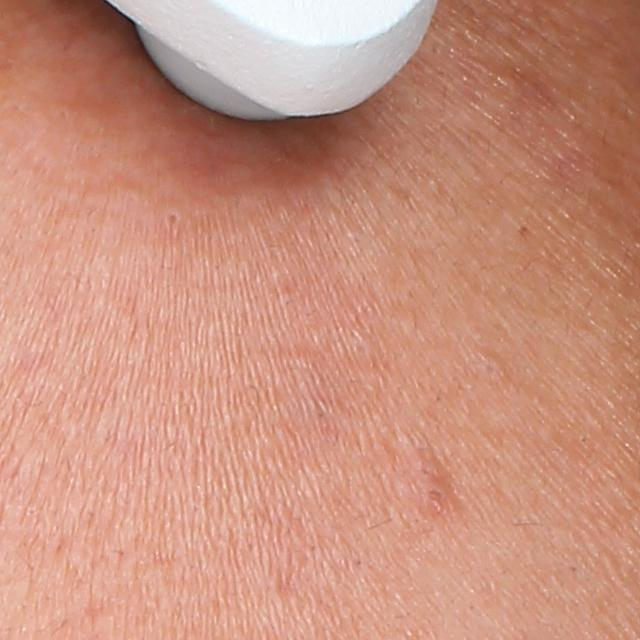comedo: (160, 205, 186, 230)
